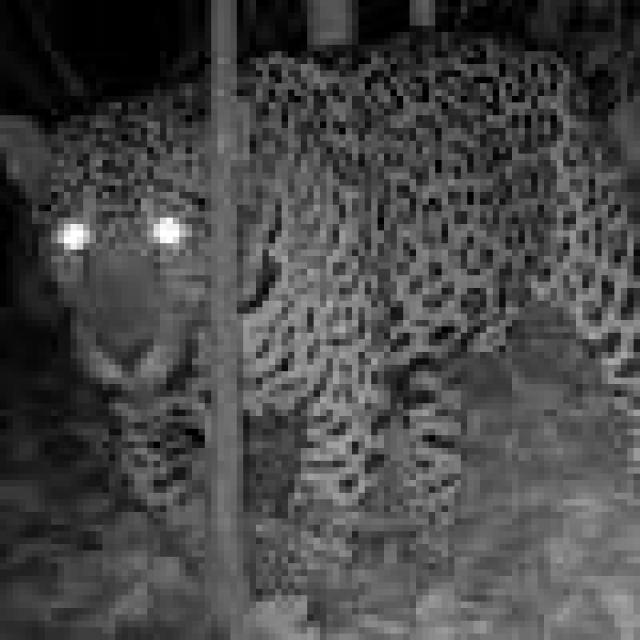Jaguar: (0, 38, 640, 506)
